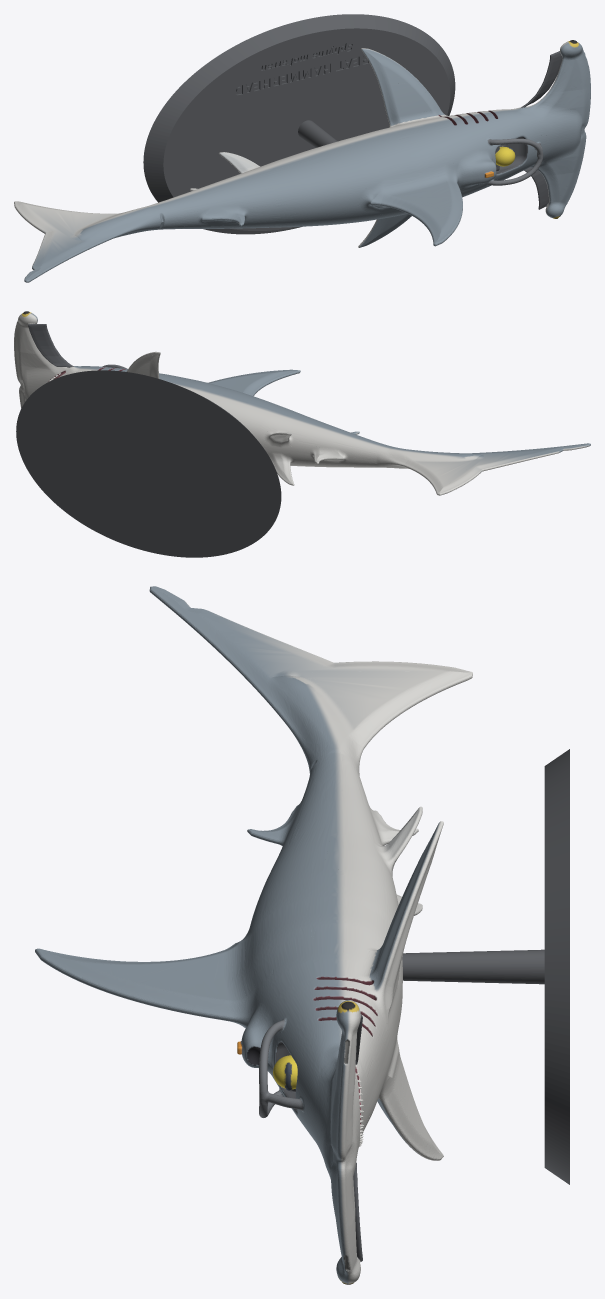
Rendered from hammerhead_shark_f1_display.glb.
3 renders of one model, top to bottom at view 1: azimuth 30°, elevation 25°; view 2: azimuth 150°, elevation 25°; view 3: azimuth 270°, elevation 25°, orthographic. The views are drawn at different scales.
Visible parts, largest first — view 1: geometry_0; view 2: geometry_0; view 3: geometry_0.
Boxes of the visible parts, x1,y1,x2,y2 form: geometry_0: [14, 14, 590, 282]; geometry_0: [14, 311, 590, 557]; geometry_0: [35, 586, 569, 1284].
Size of the model in its own units: 239 by 76 by 105.
